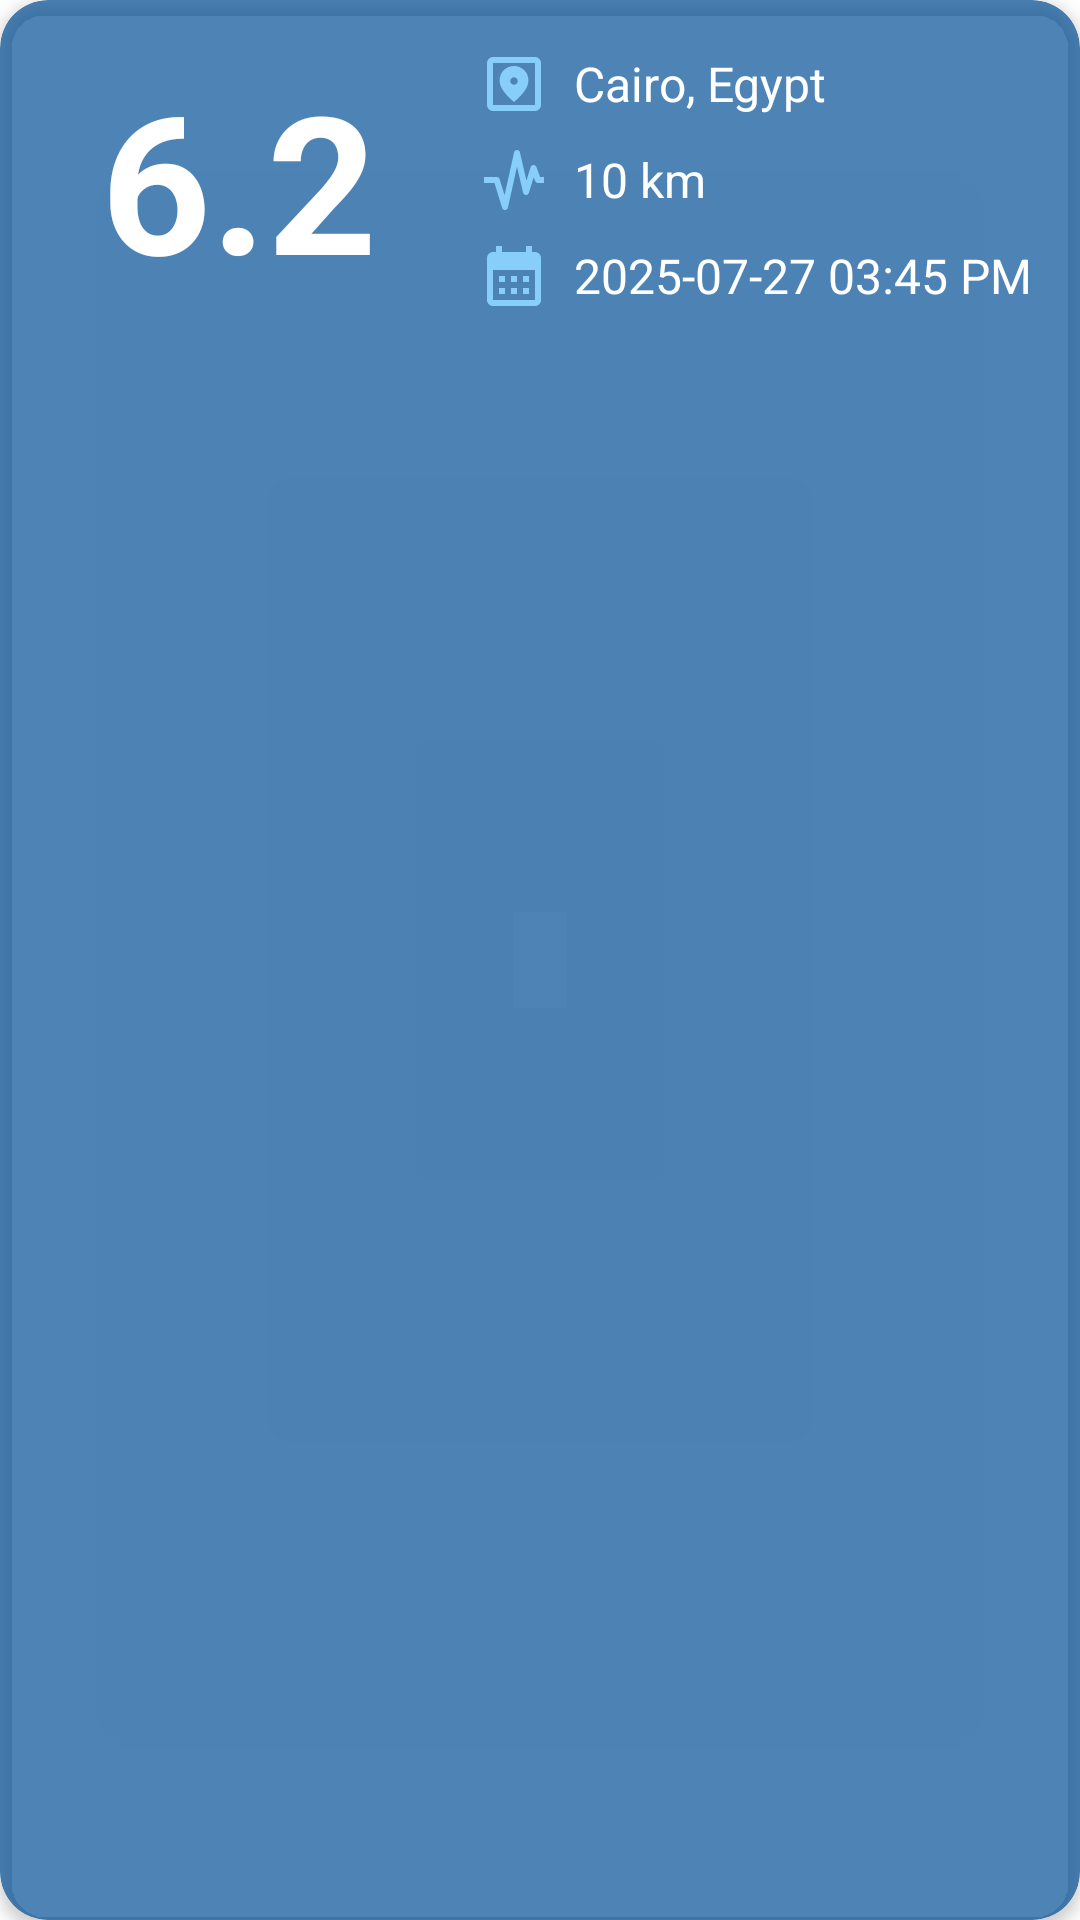

Icons on this 1080w x 1920h Android screen, each with its box as {"left": x1, "top": y1, "right": x2, "bottom": y2}:
calendar: {"left": 487, "top": 246, "right": 541, "bottom": 306}
Location: {"left": 487, "top": 57, "right": 541, "bottom": 111}
